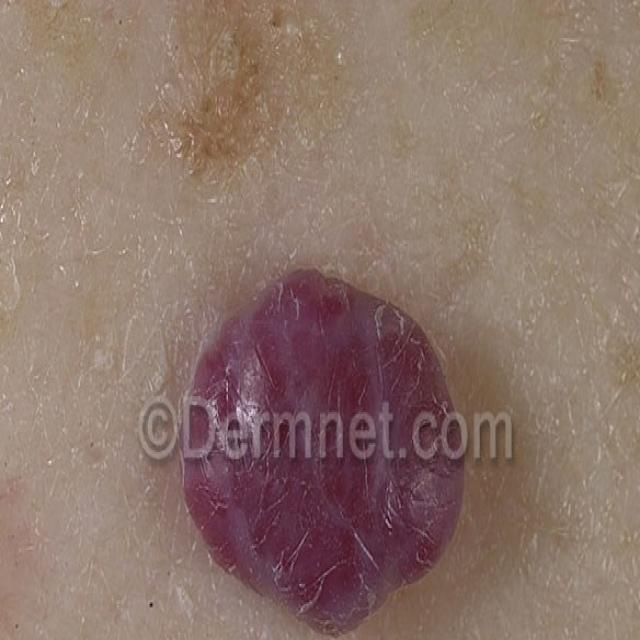Vascular Tumors: (173, 253, 469, 640)
